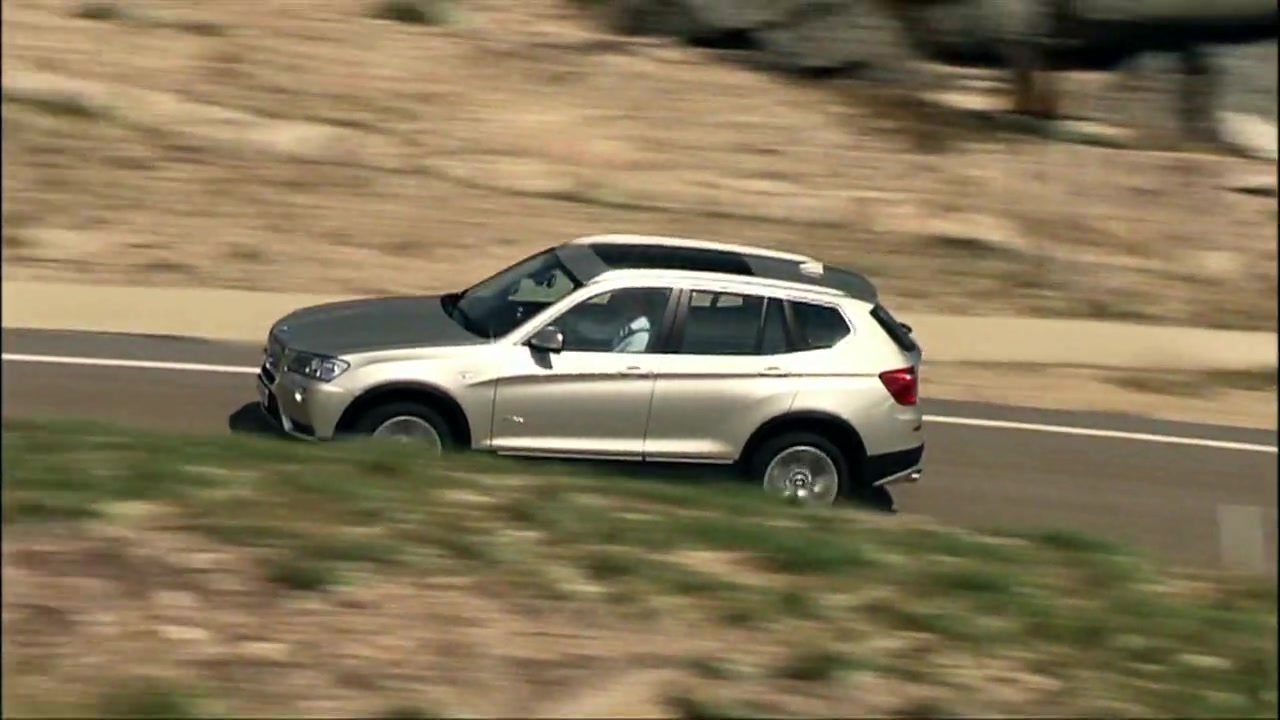car: (258, 234, 927, 514)
